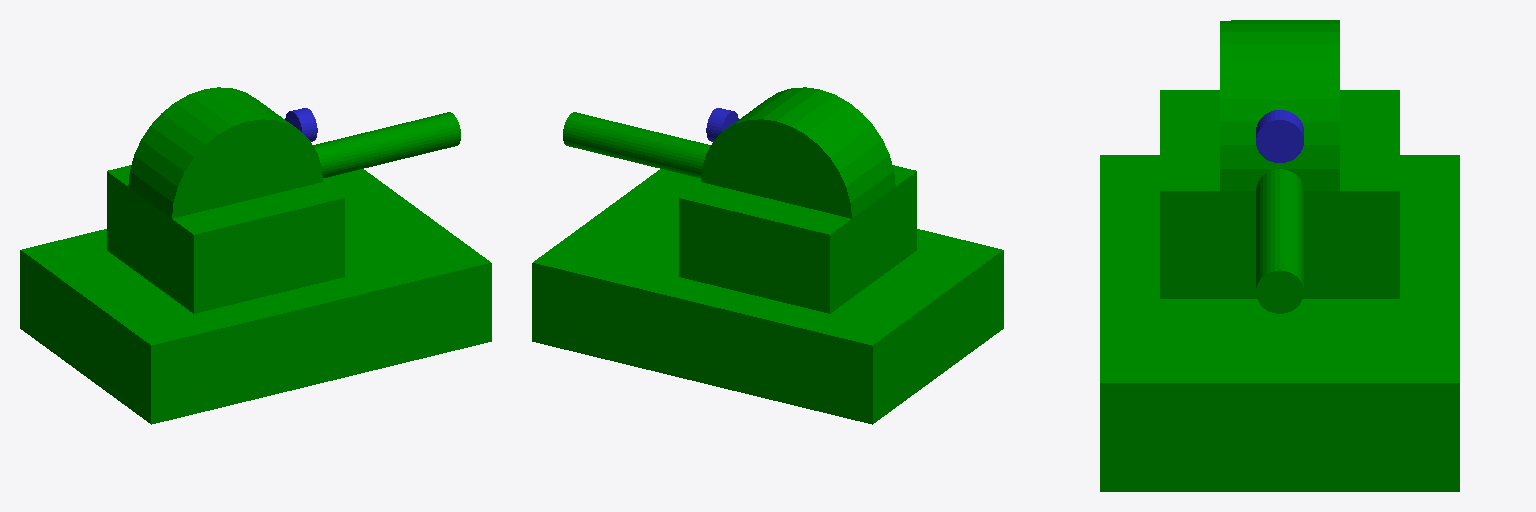
URDF robot description (SimpleTank):
<?xml version="1.0"?>
<robot name="SimpleTank">

  <!-- Link: CHASSIS -->
  <link name="CHASSIS">
    <inertial>
      <origin xyz="0 0 0"/>
      <mass value="8.0"/>
      <inertia ixx="0.1" ixy="0" ixz="0" iyy="0.1" iyz="0" izz="0.5"/>
    </inertial>
    <visual>
      <origin xyz="0 0 0"/>
      <geometry>
        <box size="0.45 0.3 0.1"/>
      </geometry>
      <material name="BodyAppearance">
        <color rgba="0 0.6 0 1.0"/>
      </material>
    </visual>
    <collision>
      <origin xyz="0 0 0"/>
      <geometry>
        <box size="0.45 0.3 0.1"/>
      </geometry>
    </collision>
  </link>

  <!-- Joint: TURRET_Y -->
  <joint name="TURRET_Y" type="continuous">
    <parent link="CHASSIS"/>
    <child link="TURRET_Y"/>
    <origin xyz="-0.04 0 0.1"/>
    <axis xyz="0 0 -1"/>
    <limit effort="20.0" velocity="1.57"/>
  </joint>

  <!-- Link: TURRET_Y -->
  <link name="TURRET_Y">
    <inertial>
      <origin xyz="0 0 0.025"/>
      <mass value="4.0"/>
      <inertia ixx="0.1" ixy="0" ixz="0" iyy="0.1" iyz="0" izz="0.1"/>
    </inertial>
    <visual>
      <origin xyz="0 0 0"/>
      <geometry>
        <box size="0.2 0.2 0.1"/>
      </geometry>
      <material name="BodyAppearance"/>
    </visual>
    <collision>
      <origin xyz="0 0 0"/>
      <geometry>
        <box size="0.2 0.2 0.1"/>
      </geometry>
    </collision>
  </link>

  <!-- Joint: TURRET_P -->
  <joint name="TURRET_P" type="revolute">
    <parent link="TURRET_Y"/>
    <child link="TURRET_P"/>
    <origin xyz="0 0 0.05"/>
    <axis xyz="0 -1 0"/>
    <limit lower="-0.175" upper="0.785" effort="20.0" velocity="1.57"/>
  </joint>

  <!-- Link: TURRET_P -->
  <link name="TURRET_P">
    <inertial>
      <origin xyz="0 0 0"/>
      <mass value="3.0"/>
      <inertia ixx="0.1" ixy="0" ixz="0" iyy="0.1" iyz="0" izz="0.1"/>
    </inertial>
    <visual>
      <origin xyz="0 0 0" rpy="1.571 0 0"/>
      <geometry>
        <cylinder radius="0.1" length="0.1"/>
      </geometry>
      <material name="BodyAppearance"/>
    </visual>
    <collision>
      <origin xyz="0 0 0" rpy="1.571 0 0"/>
      <geometry>
        <cylinder radius="0.1" length="0.1"/>
      </geometry>
    </collision>
    <visual>
      <origin xyz="0.2 0 0" rpy="0 1.571 0"/>
      <geometry>
        <cylinder radius="0.02" length="0.2"/>
      </geometry>
      <material name="BodyAppearance"/>
    </visual>
    <collision>
      <origin xyz="0.2 0 0" rpy="0 1.571 0"/>
      <geometry>
        <cylinder radius="0.02" length="0.2"/>
      </geometry>
    </collision>
    <!-- <visual> -->
    <!--   <geometry> -->
    <!--     <cone radius="0.025" length="0.04"/> -->
    <!--   </geometry> -->
    <!--   <material name="spotlight_material"> -->
    <!--     <color rgba="1.0 1.0 0.4 1.0"/> -->
    <!--   </material> -->
    <!-- </visual> -->
    <!-- <collision> -->
    <!--   <geometry> -->
    <!--     <cone radius="0.025" length="0.04"/> -->
    <!--   </geometry> -->
    <!-- </collision> -->
    <visual>
      <origin xyz="0.1 0 0.05" rpy="0 1.571 0"/>
      <geometry>
        <cylinder radius="0.02" length="0.02"/>
      </geometry>
      <material name="camera_material">
        <color rgba="0.2 0.2 0.8 1.0"/>
      </material>
    </visual>
    <collision>
      <origin xyz="0.1 0 0.05" rpy="0 1.571 0"/>
      <geometry>
        <cylinder radius="0.02" length="0.02"/>
      </geometry>
    </collision>
  </link>

  <!-- Joint: TRACK_L -->
  <joint name="TRACK_L" type="fixed">
    <parent link="CHASSIS"/>
    <child link="TRACK_L"/>
    <origin xyz="0 0.2 0"/>
  </joint>

  <!-- Link: TRACK_L -->
  <link name="TRACK_L">
    <inertial>
      <origin xyz="0 0 0"/>
      <mass value="1.0"/>
      <inertia ixx="0.02" ixy="0" ixz="0" iyy="0.02" iyz="0" izz="0.02"/>
    </inertial>
    <!-- <visual> and <collision> for Extrusion not natively supported in URDF -->
  </link>

  <!-- Joint: TRACK_R -->
  <joint name="TRACK_R" type="fixed">
    <parent link="CHASSIS"/>
    <child link="TRACK_R"/>
    <origin xyz="0 -0.2 0"/>
  </joint>

  <!-- Link: TRACK_R -->
  <link name="TRACK_R">
    <inertial>
      <origin xyz="0 0 0"/>
      <mass value="1.0"/>
      <inertia ixx="0.02" ixy="0" ixz="0" iyy="0.02" iyz="0" izz="0.02"/>
    </inertial>
    <!-- <visual> and <collision> for Extrusion not natively supported in URDF -->
  </link>

</robot>

--- Facts derived from the render (not from the file) ---
3 views of the same robot in one strip: view 1: azimuth 30°, elevation 25°; view 2: azimuth 150°, elevation 25°; view 3: azimuth 270°, elevation 25° (orthographic).
Robot: SimpleTank — 5 links, 4 joints (1 revolute, 1 continuous, 2 fixed); root link CHASSIS; default pose: all joints at 0.
Visible links, largest first — view 1: CHASSIS, TURRET_P, TURRET_Y; view 2: CHASSIS, TURRET_P, TURRET_Y; view 3: CHASSIS, TURRET_Y, TURRET_P.
Link boxes in pixels (bbox=[...]): CHASSIS: bbox=[20, 169, 491, 424]; TURRET_P: bbox=[128, 87, 460, 218]; TURRET_Y: bbox=[107, 165, 344, 313]; CHASSIS: bbox=[532, 169, 1003, 424]; TURRET_P: bbox=[563, 87, 895, 218]; TURRET_Y: bbox=[679, 165, 916, 313]; CHASSIS: bbox=[1100, 155, 1459, 491]; TURRET_Y: bbox=[1160, 90, 1399, 298]; TURRET_P: bbox=[1220, 20, 1339, 313].
Bounding box of the posed robot: 0.485 × 0.3 × 0.3 m (x, y, z).
Geometry: primitives only (box / cylinder / sphere), no mesh files.